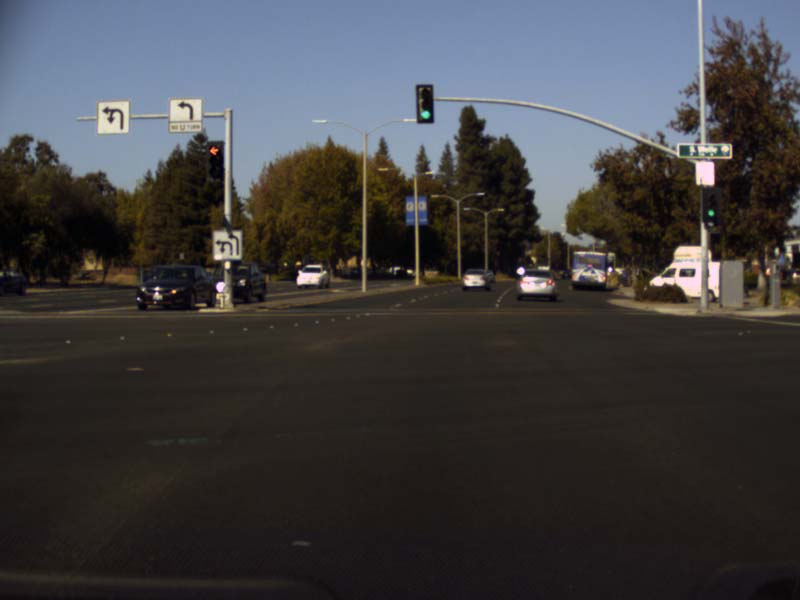Green: (415, 84, 433, 122), (702, 186, 719, 221)
Red: (206, 141, 223, 181)
